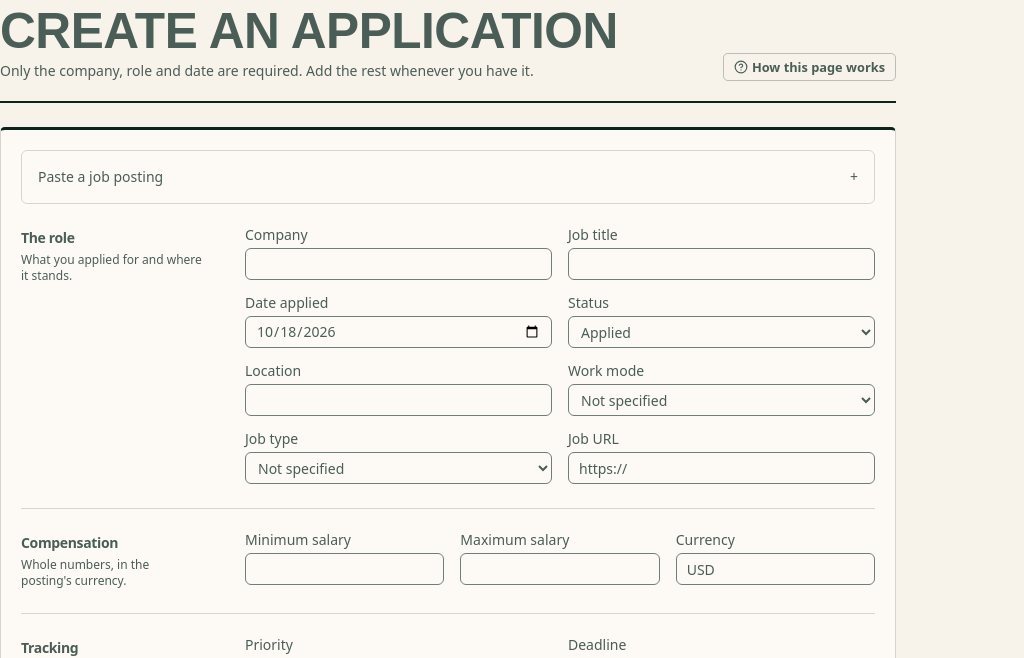
Scenario: ApplicationFormPage input guardrails › rejects a date before 2000
In the field labelled "Company": (398, 264) [245,248,552,280], type "Acme"
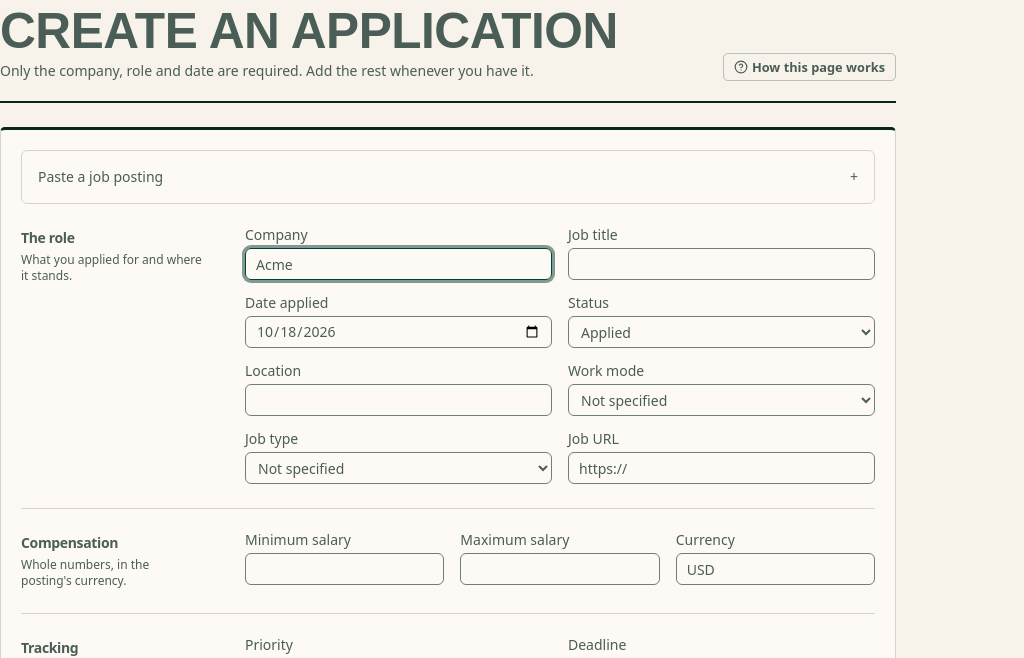
In the field labelled "Job title": (722, 264) [568,248,875,280], type "Engineer"
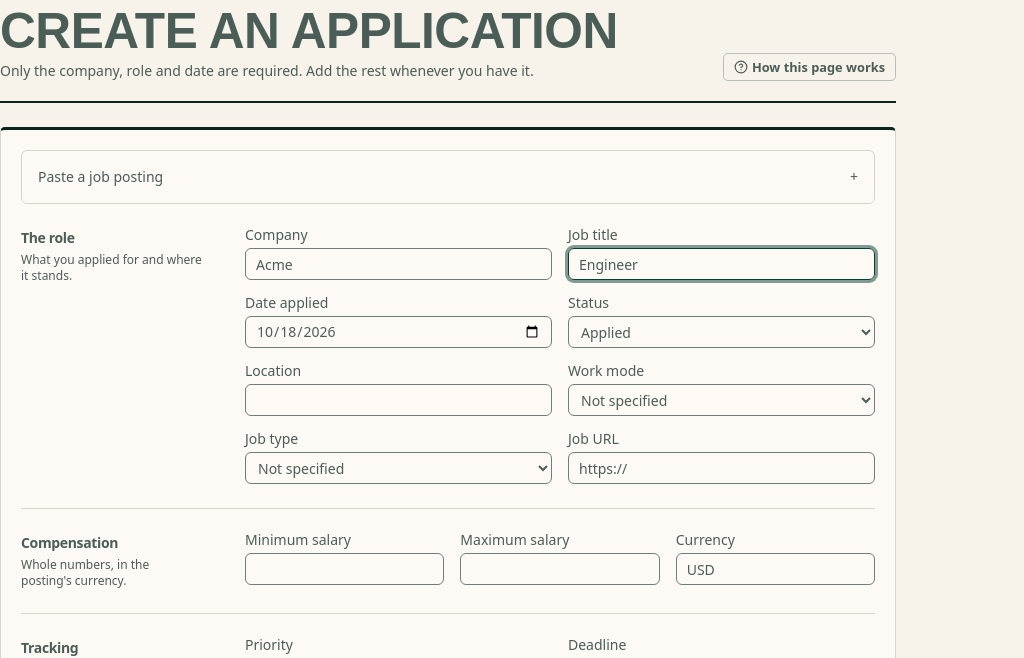
In the date field labelled "Date applied": (398, 332) [245,316,552,348], type "1990-05-01"
(page scrolled)
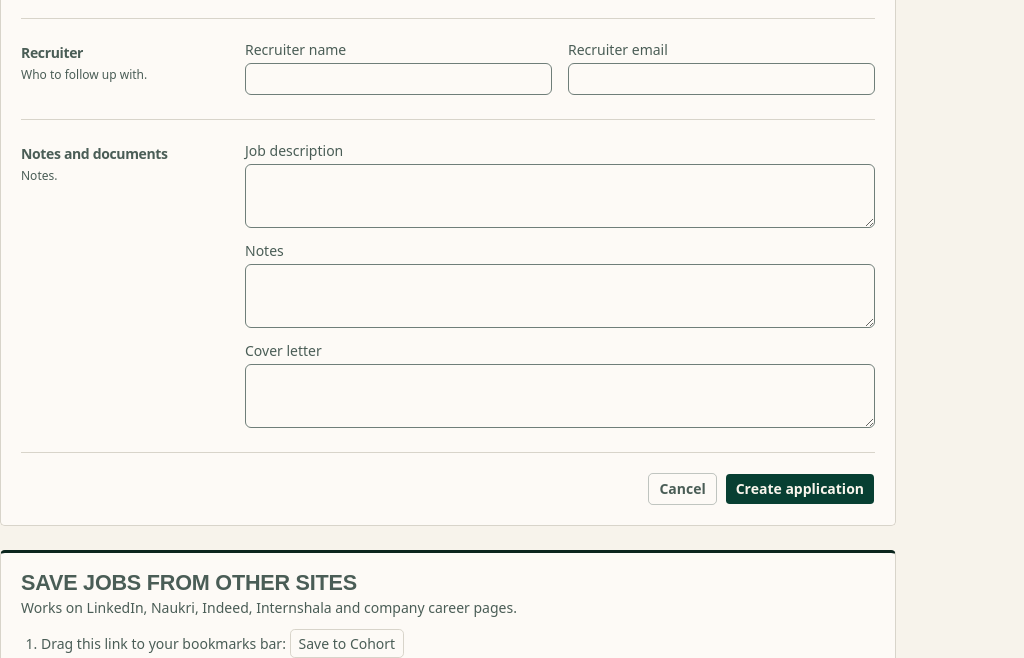
Click the button "Create application": (800, 489) [725,473,875,505]
(page scrolled)
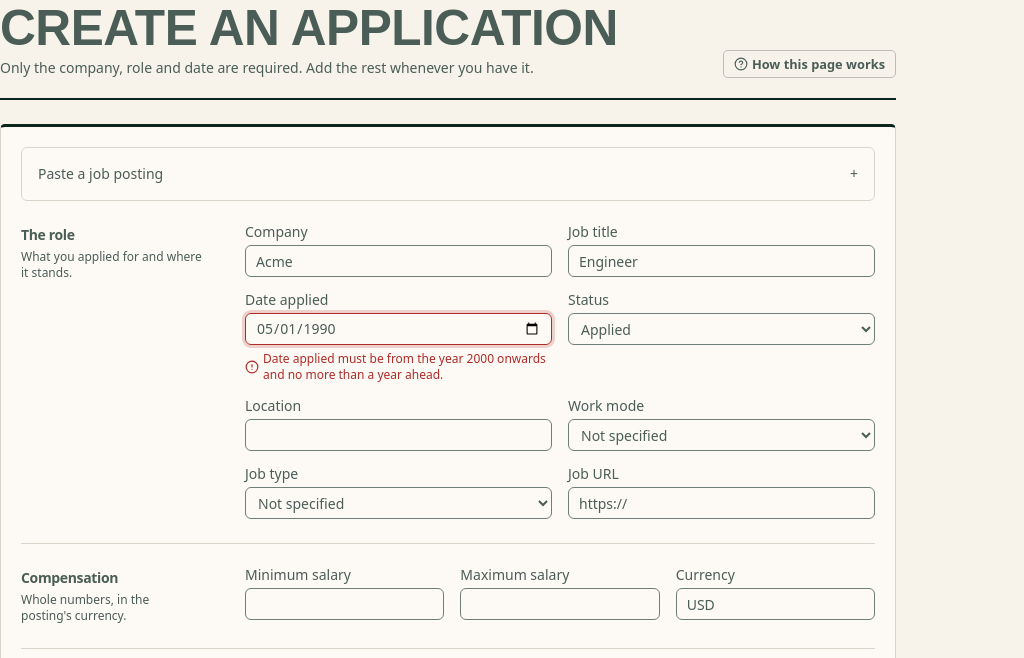
Result: the text "from the year 2000 onwards" is shown at [263,350,546,383]
